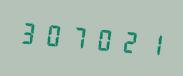one: (138, 24, 161, 62)
seven: (66, 17, 89, 55)
three: (17, 13, 40, 51)
two: (114, 22, 137, 59)
zero: (41, 15, 64, 53), (90, 19, 113, 57)
